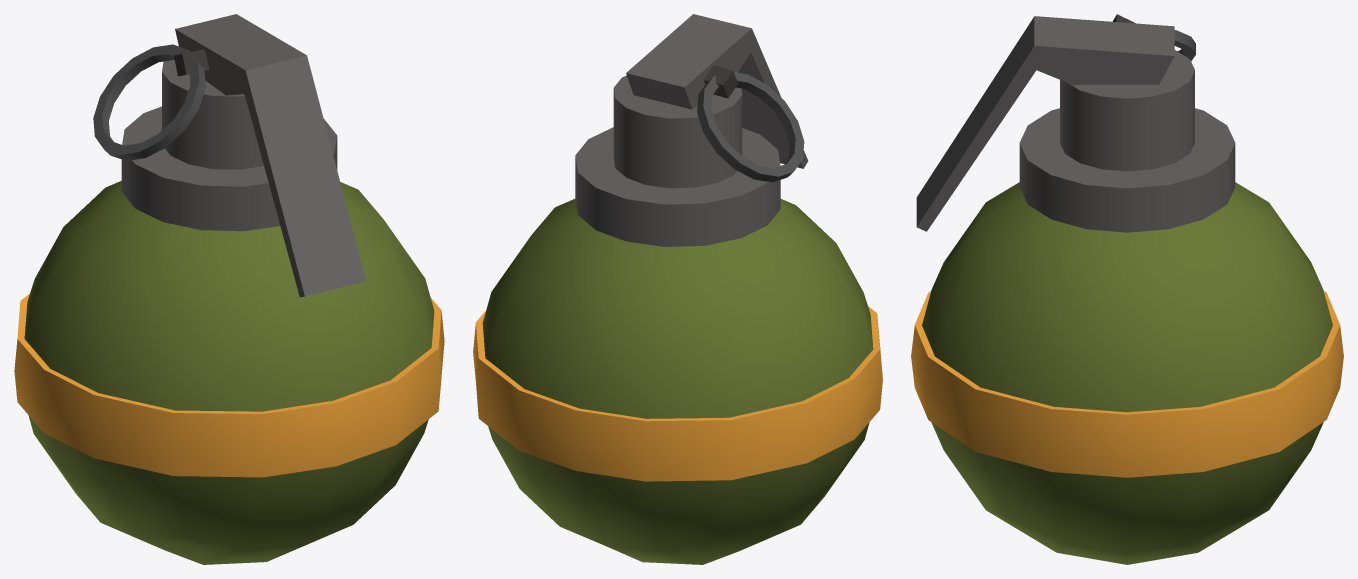
File: Grenade.fbx
The picture shows the model from 3 angles, left to right: view 1: azimuth 30°, elevation 25°; view 2: azimuth 150°, elevation 25°; view 3: azimuth 270°, elevation 25°; orthographic projection. The views are drawn at different scales.
Visible parts, largest first — view 1: Grenade; view 2: Grenade; view 3: Grenade.
Part boxes in pixels (x1,y1,x2,y2): Grenade: (14, 14, 444, 564); Grenade: (473, 14, 882, 564); Grenade: (911, 14, 1343, 564).
Bounding box in the file's own units: 50.32 × 66.05 × 50.32.
